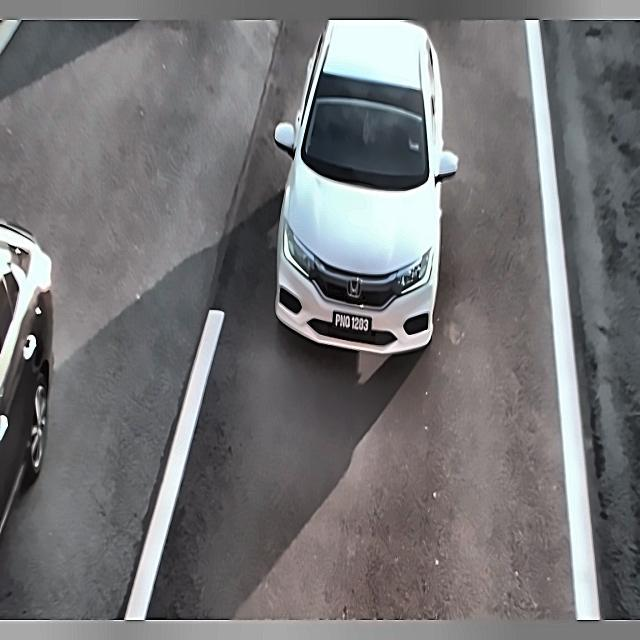car: (327, 305, 376, 347)
